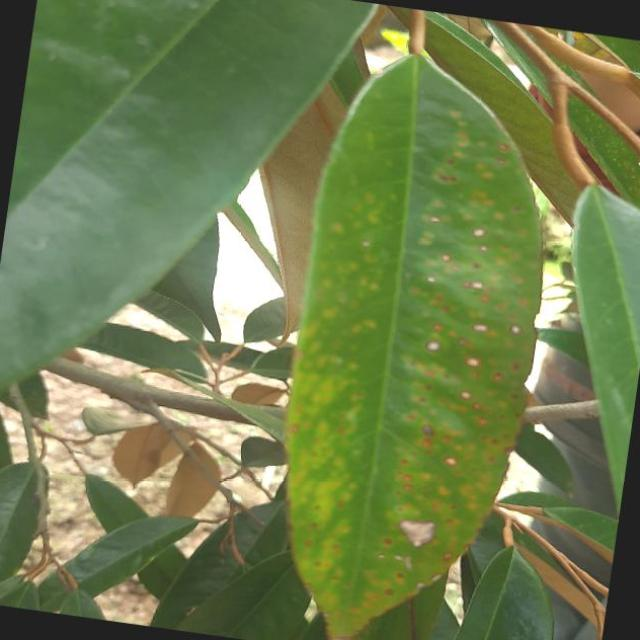Leaf Spot: (240, 38, 582, 640)
